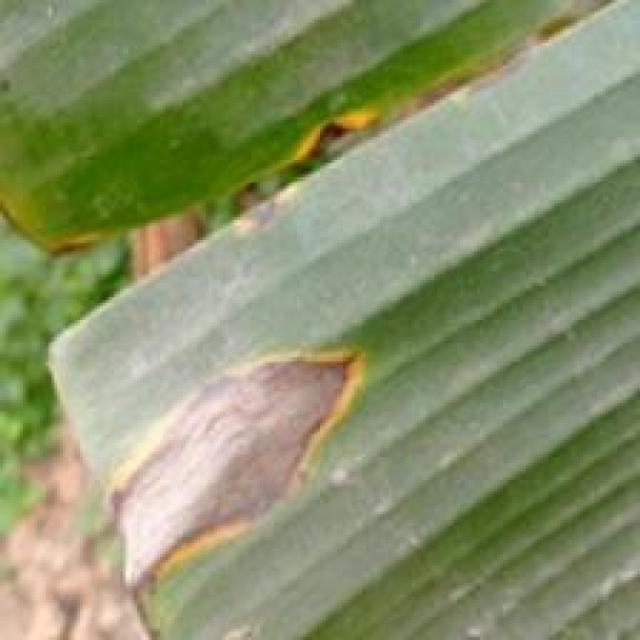Bacterial_spot: (109, 323, 388, 617), (274, 80, 375, 172), (46, 222, 119, 268)
